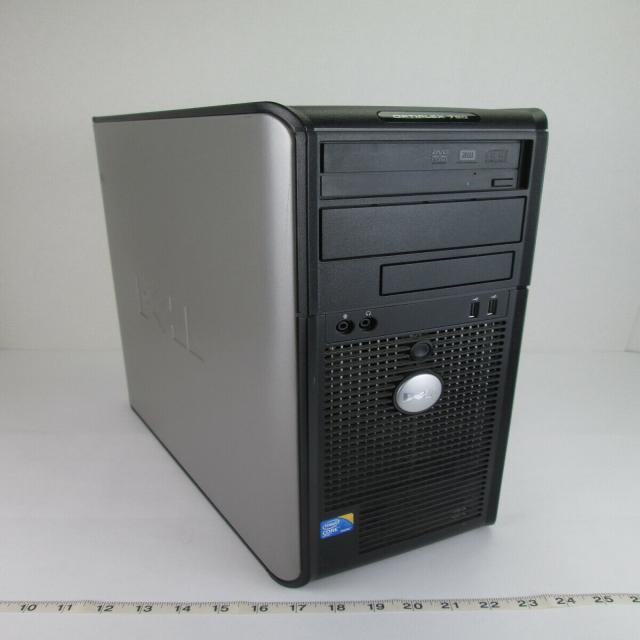Desktop-PC: (75, 83, 570, 587)
